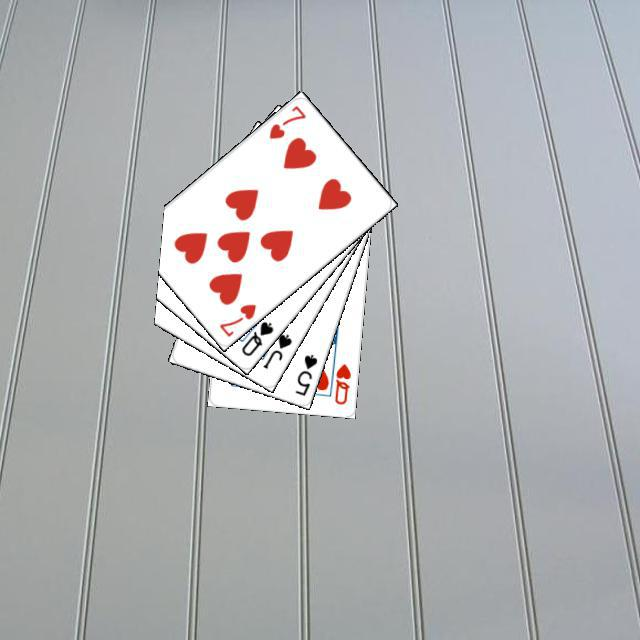5s: (290, 349, 319, 397)
7h: (264, 100, 308, 141), (214, 299, 258, 339)
Js: (258, 329, 293, 370)
Qh: (330, 359, 353, 406)
Qs: (236, 316, 275, 358)
